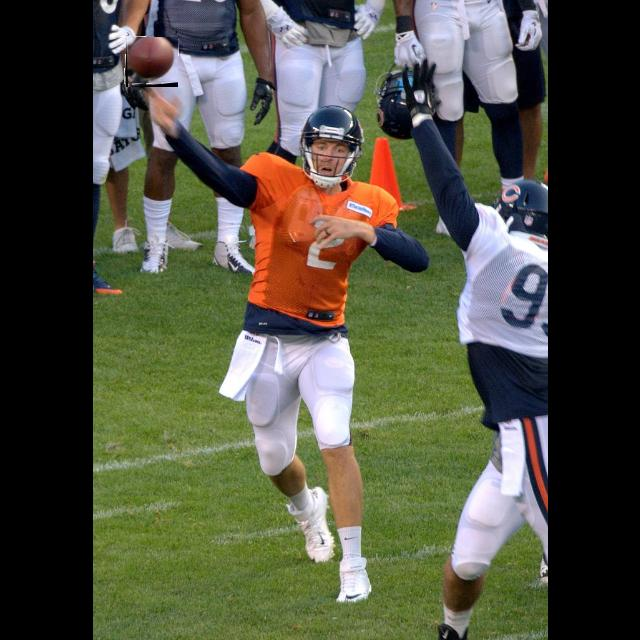Football: (126, 37, 178, 87)
